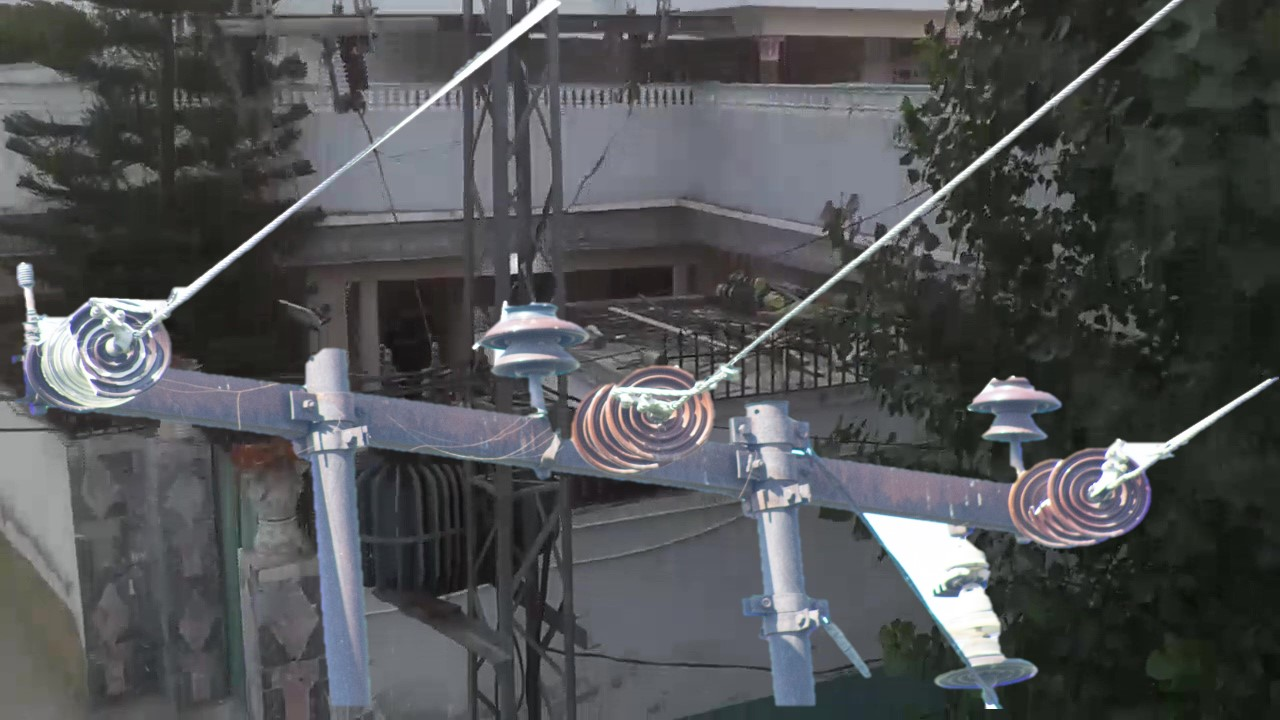defect_disc: (67, 288, 177, 404)
insulator_disc: (600, 361, 718, 462), (1044, 437, 1155, 543)
